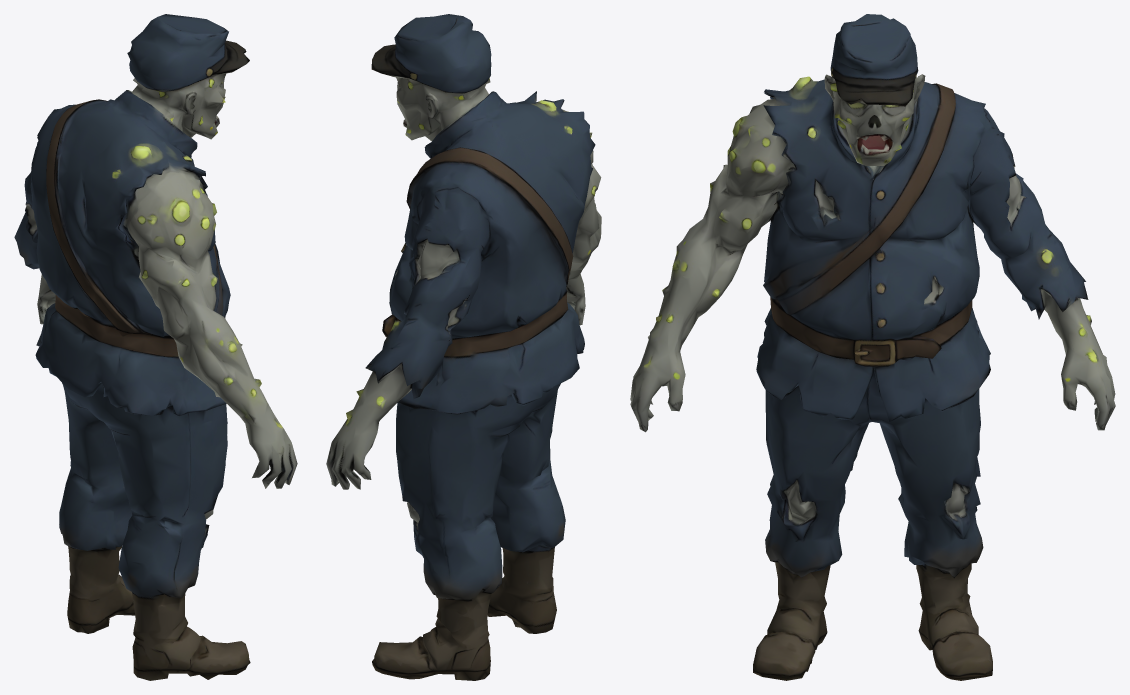
Rendered from fdfd39c9-9451-400e-94ef-e1c1d7fd747d_model_url.glb.
3 renders of one model, left to right at view 1: azimuth 30°, elevation 25°; view 2: azimuth 150°, elevation 25°; view 3: azimuth 270°, elevation 25°, orthographic. The views are drawn at different scales.
Visible parts, largest first — view 1: tripo_node_fdfd39c9-9451-400e-94ef-e1c1d7fd747d; view 2: tripo_node_fdfd39c9-9451-400e-94ef-e1c1d7fd747d; view 3: tripo_node_fdfd39c9-9451-400e-94ef-e1c1d7fd747d.
Boxes of the visible parts, x1,y1,x2,y2 form: tripo_node_fdfd39c9-9451-400e-94ef-e1c1d7fd747d: [14, 14, 297, 680]; tripo_node_fdfd39c9-9451-400e-94ef-e1c1d7fd747d: [326, 14, 601, 680]; tripo_node_fdfd39c9-9451-400e-94ef-e1c1d7fd747d: [630, 14, 1115, 680].
Size of the model in its own units: 0.3119 by 1 by 0.6751.
Materials: 1 (1 with a texture image).
